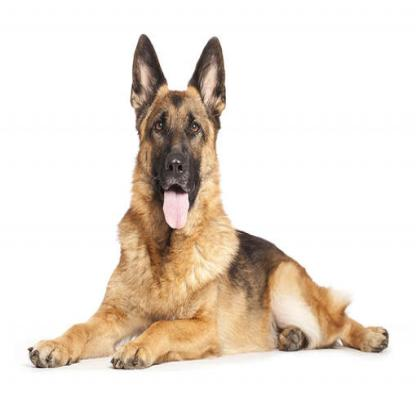dog: (28, 34, 393, 365)
